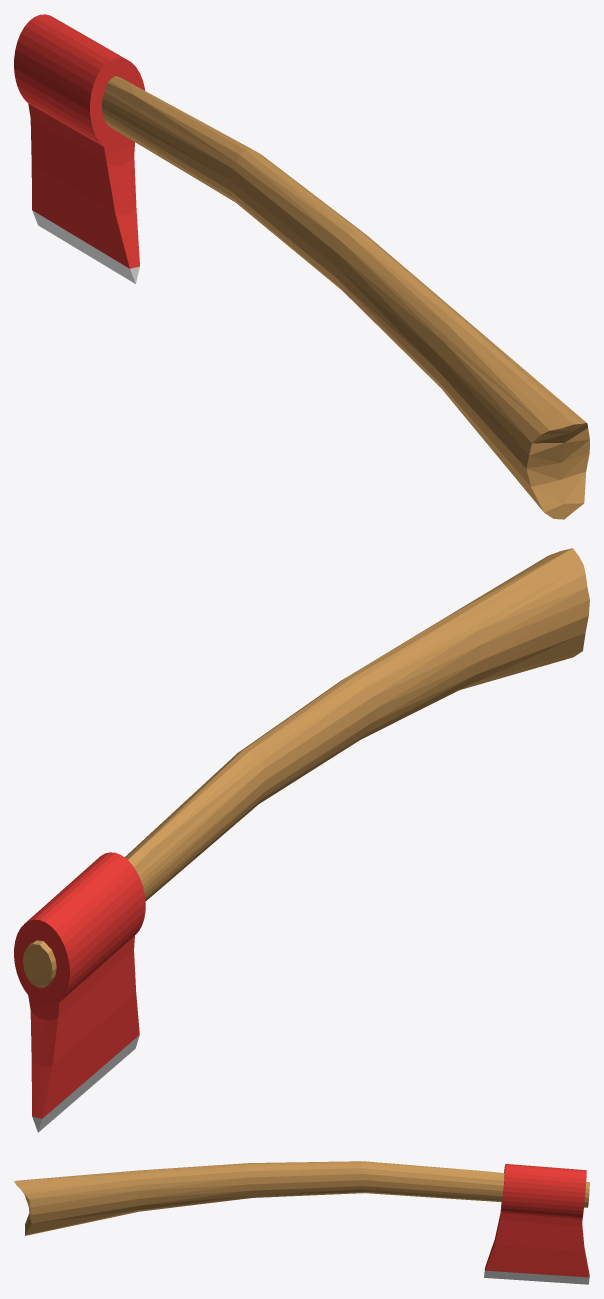
File: axe.fbx
The picture shows the model from 3 angles, top to bottom: view 1: azimuth 30°, elevation 25°; view 2: azimuth 150°, elevation 25°; view 3: azimuth 270°, elevation 25°; orthographic projection. The views are drawn at different scales.
Parts seen in each view (by area): view 1: axe; view 2: axe; view 3: axe.
Part boxes in pixels (left/top/right/bottom): axe: left=14, top=14, right=589, bottom=519; axe: left=14, top=548, right=589, bottom=1132; axe: left=14, top=1161, right=589, bottom=1284.
Bounding box in the file's own units: 0.071 × 0.2446 × 1.04.
